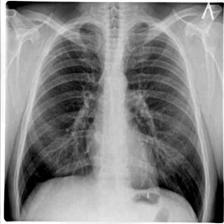tuberculosis: (14, 18, 208, 222)
